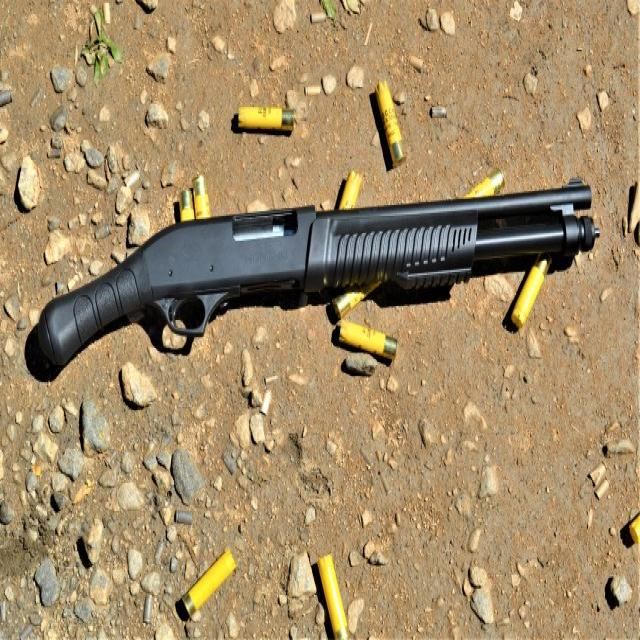ShotGun: (33, 182, 598, 367)
